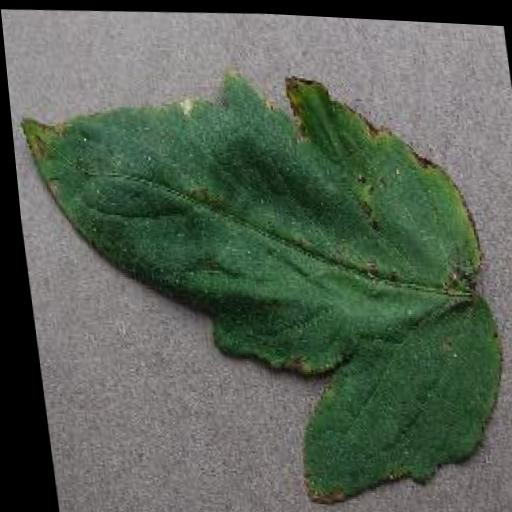Bacterial Spot: (8, 61, 512, 512)
